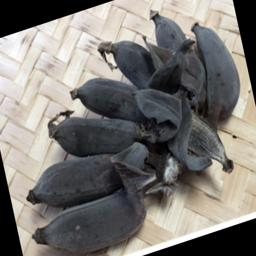Banana Rotten: (7, 11, 250, 256)
